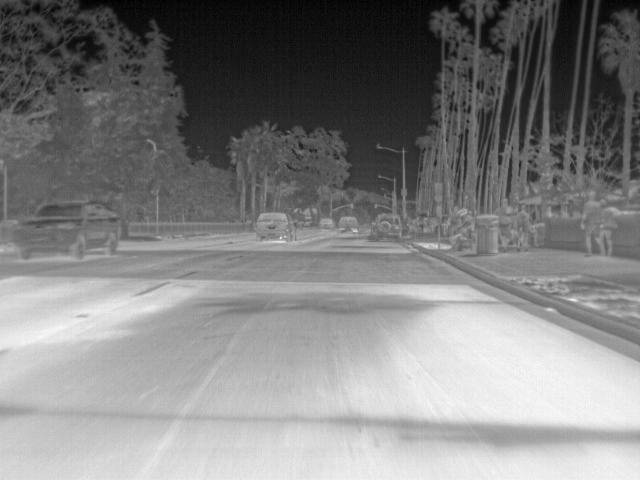car: (11, 196, 126, 260), (249, 211, 295, 242), (367, 214, 403, 240), (331, 213, 358, 235), (314, 216, 334, 230)
person: (581, 189, 602, 255), (597, 198, 617, 253)
